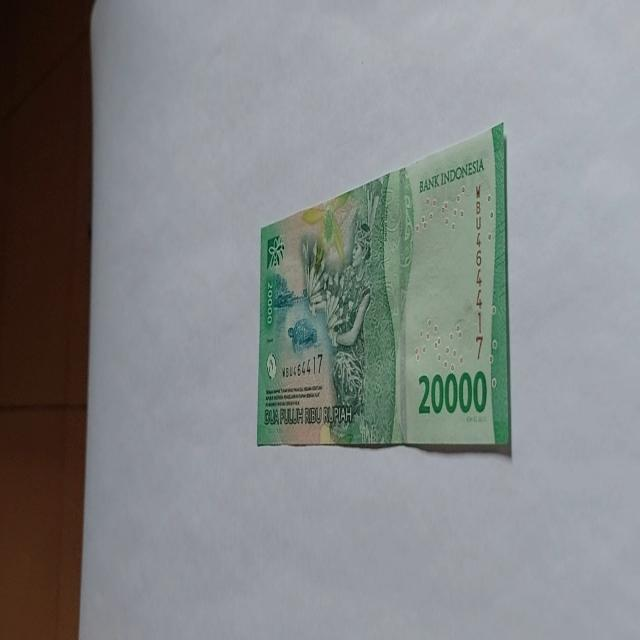dua puluh ribu rupiah: (256, 121, 512, 456)
